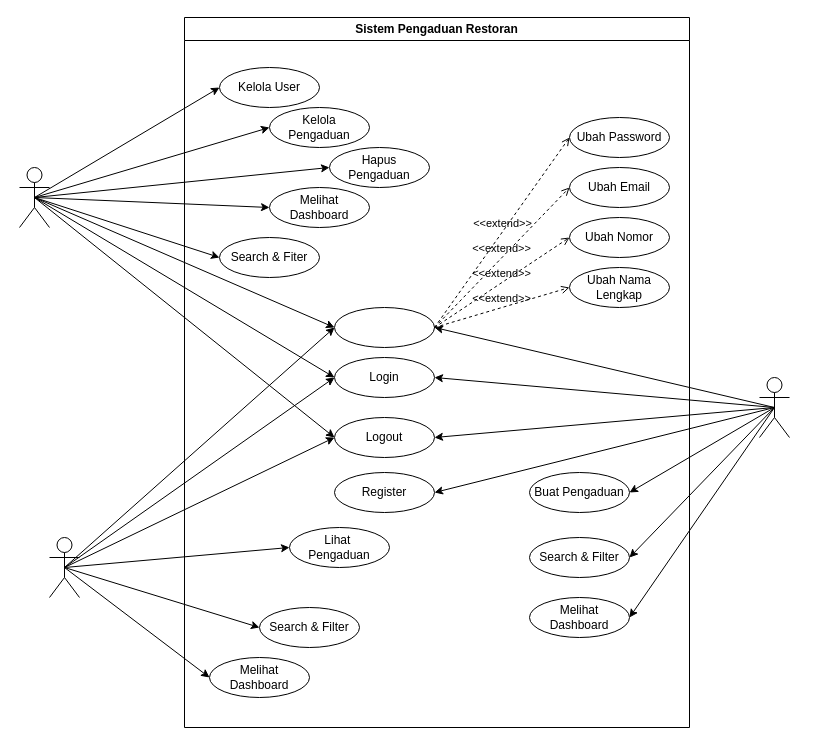
The diagram is 835 pixels wide and 745 high, and some of its shapes have lost their labels. Each missing label, with the centre of its shape:
Admin: (x=34, y=197)
Customer / User: (x=774, y=407)
Kelola Profil: (x=384, y=327)
Petugas: (x=64, y=567)
